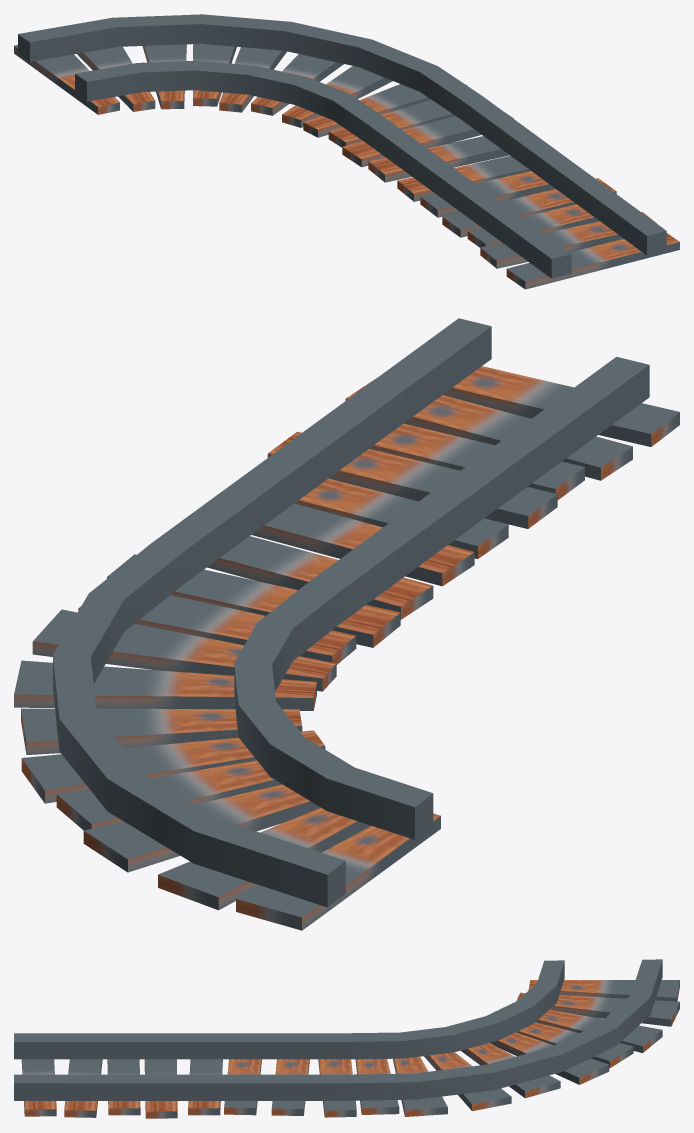
The model's file is long_turn_l_3.fbx.
The picture shows the model from 3 angles, top to bottom: view 1: azimuth 30°, elevation 25°; view 2: azimuth 150°, elevation 25°; view 3: azimuth 270°, elevation 25°; orthographic projection. The views are drawn at different scales.
Parts seen in each view (by area): view 1: long_turn_l_3; view 2: long_turn_l_3; view 3: long_turn_l_3.
Boxes of the visible parts, x1,y1,x2,y2 form: long_turn_l_3: (14, 14, 679, 289); long_turn_l_3: (14, 318, 679, 930); long_turn_l_3: (14, 959, 679, 1118).
Size of the model in its own units: 24.01 by 2.08 by 50.37.
